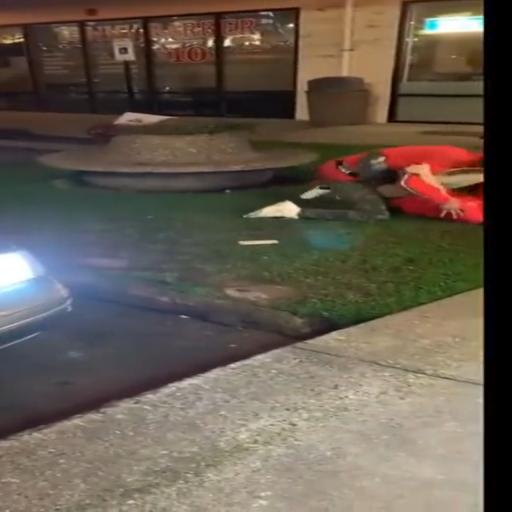violencia: (232, 129, 485, 233)
